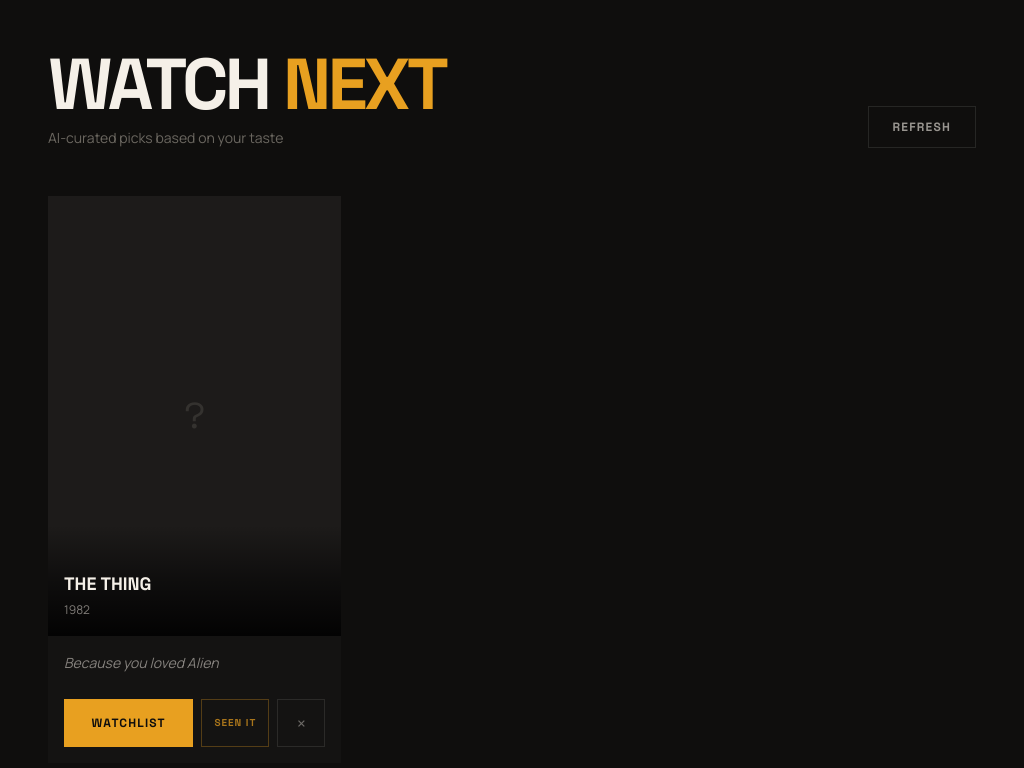
Test: Suggestions › shows the daily regeneration limit message using the backend's exact wording
Expected: the heading "The Thing" is shown, [64,572,152,596]
Click the button "Refresh": (922,127) [868,106,976,148]
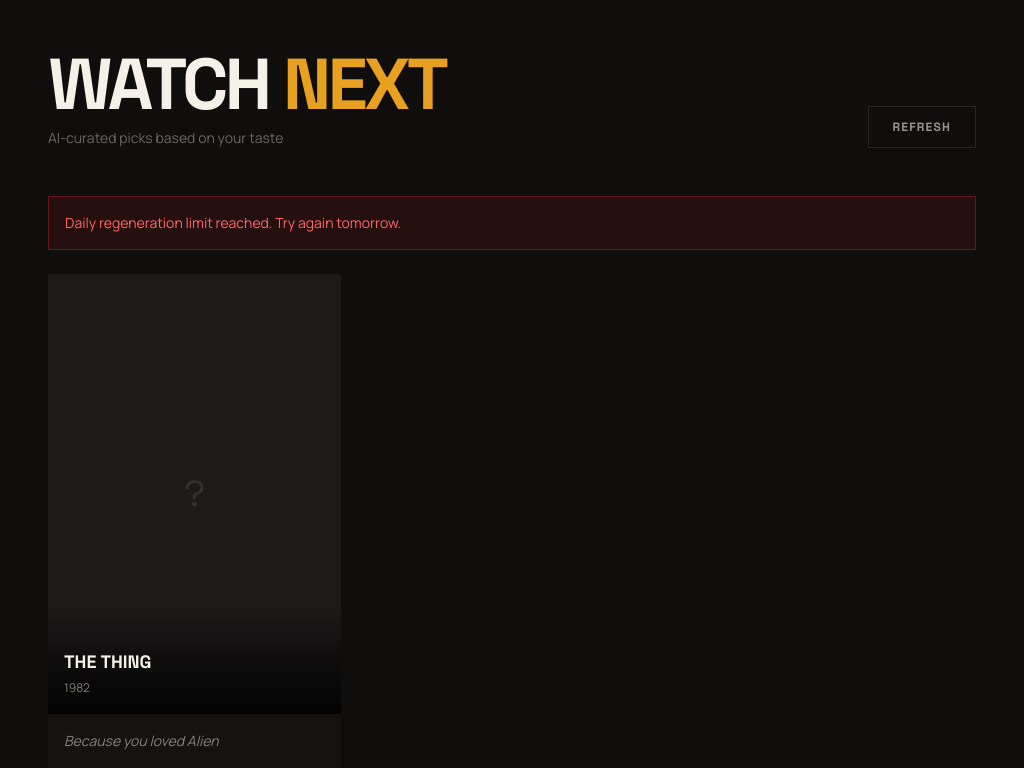
Now the text "Daily regeneration limit reached. Try again tomorrow." is shown, box [48,196,976,250]
